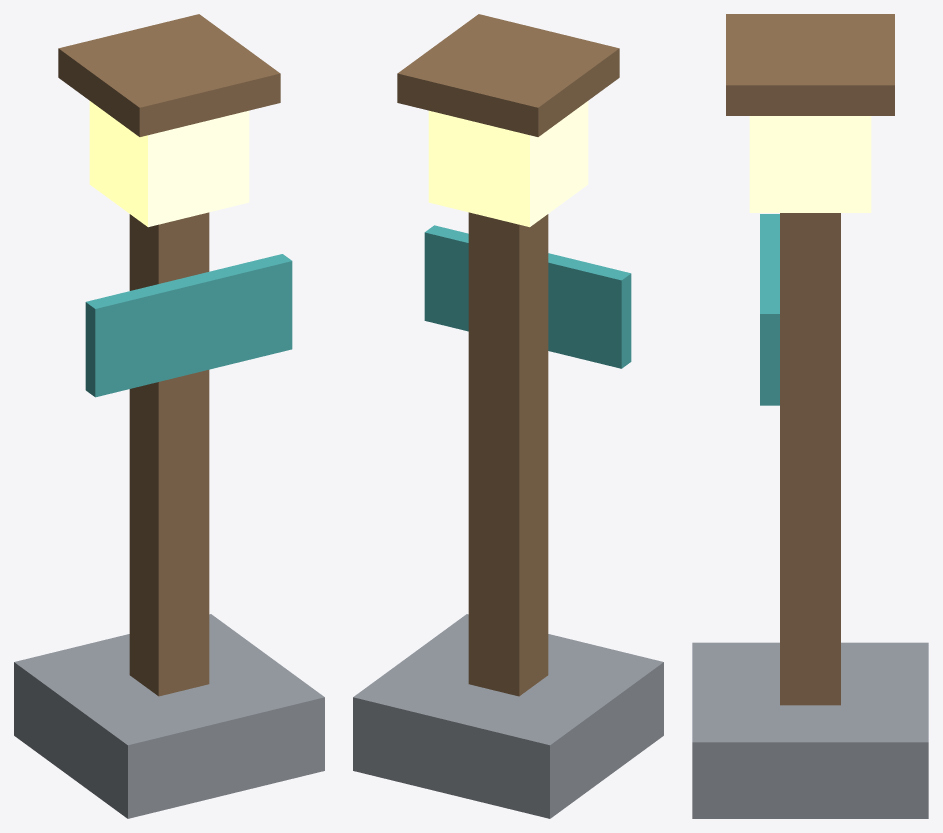
File: beacon.glb
3 renders of one model, left to right at view 1: azimuth 30°, elevation 25°; view 2: azimuth 150°, elevation 25°; view 3: azimuth 270°, elevation 25°, orthographic. The views are drawn at different scales.
Parts seen in each view (by area): view 1: base, post, sign, cap, lamp; view 2: base, post, cap, lamp, sign; view 3: base, post, cap, lamp, sign.
Boxes of the visible parts, x1,y1,x2,y2 form: base: (14, 614, 324, 818); post: (129, 212, 209, 696); sign: (85, 254, 292, 397); cap: (58, 14, 280, 136); lamp: (89, 101, 249, 227); base: (353, 614, 663, 818); post: (468, 212, 548, 696); cap: (397, 14, 619, 136); lamp: (428, 101, 588, 227); sign: (424, 225, 631, 368); base: (692, 642, 928, 818); post: (780, 213, 840, 705); cap: (726, 14, 894, 115); lamp: (749, 116, 871, 212); sign: (760, 214, 779, 405).
Bounding box in the file's own units: 0.7 × 2.35 × 0.7.
